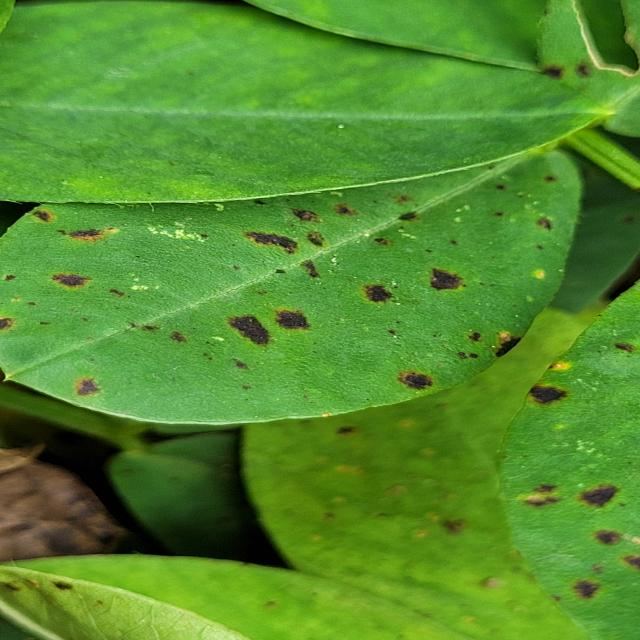Ground nut_tikka leaf spot: (0, 143, 601, 430)
